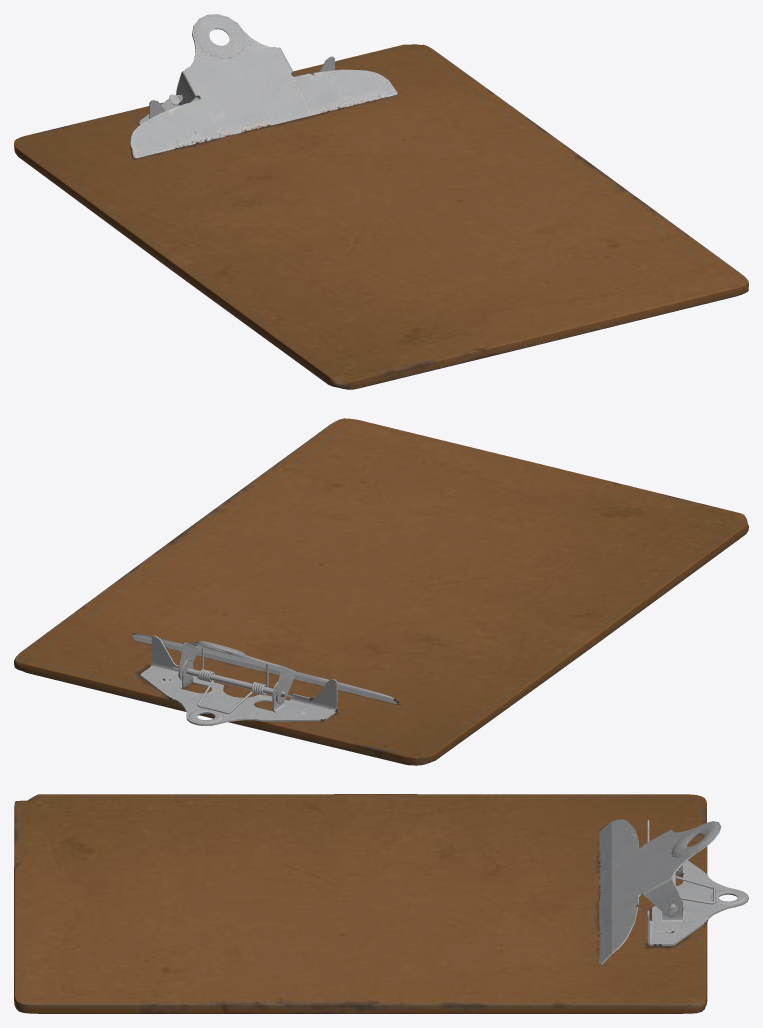
3 renders of one model, top to bottom at view 1: azimuth 30°, elevation 25°; view 2: azimuth 150°, elevation 25°; view 3: azimuth 270°, elevation 25°, orthographic. The views are drawn at different scales.
Parts seen in each view (by area): view 1: clipboard; view 2: clipboard; view 3: clipboard.
Part boxes in pixels (x1,y1,x2,y2): clipboard: (14,14,748,389); clipboard: (14,418,748,765); clipboard: (14,794,748,1013).
Bounding box in the file's own units: 0.2286 × 0.042 × 0.3366.
Materials: 1 (1 with a texture image).
